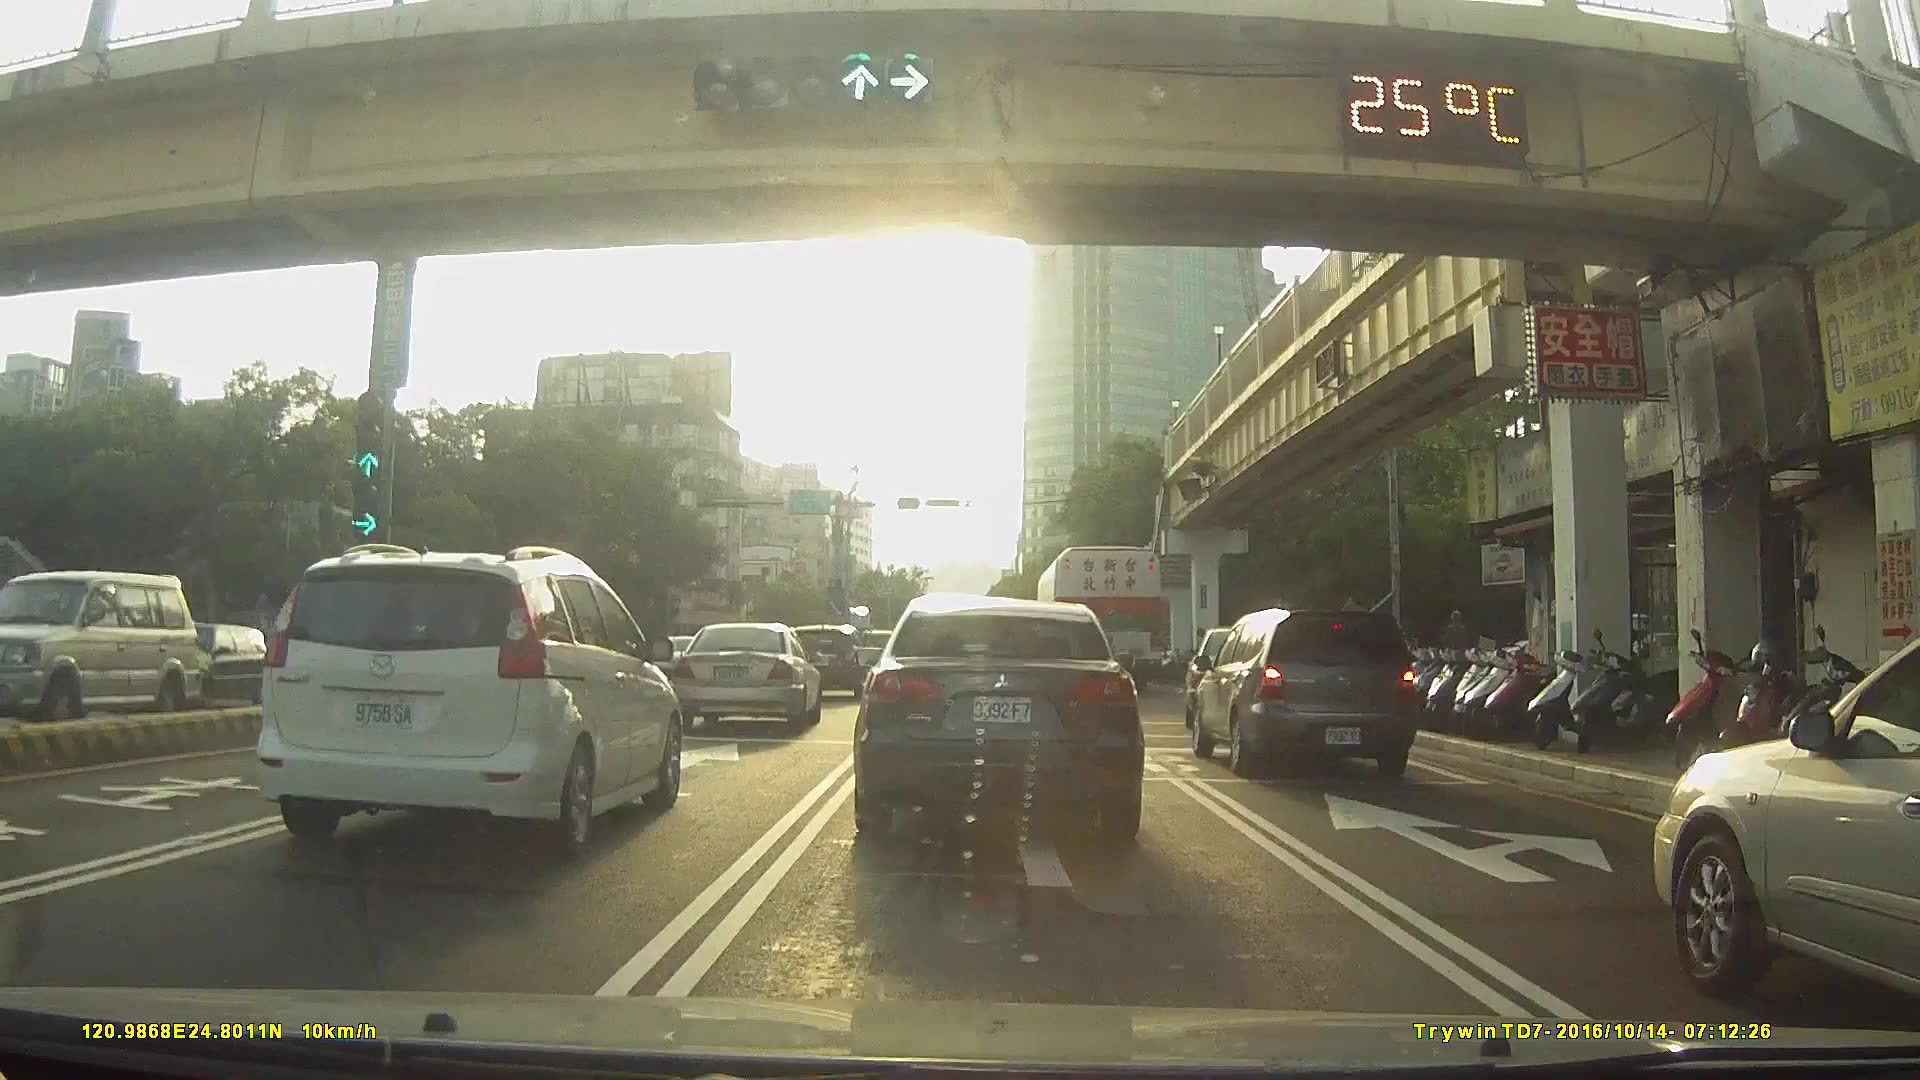vehicle: (257, 538, 686, 855), (1647, 632, 1920, 1002), (851, 589, 1142, 849), (1192, 603, 1419, 779), (4, 560, 225, 727), (1033, 541, 1164, 690), (671, 615, 819, 728), (142, 618, 272, 713), (1184, 620, 1302, 717), (779, 622, 864, 698), (644, 633, 703, 682)
